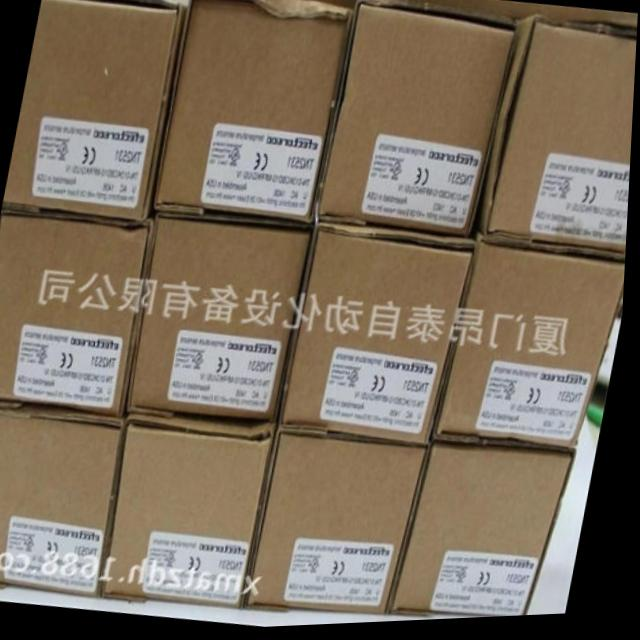box: (314, 2, 513, 238), (157, 0, 357, 225), (284, 225, 480, 453), (437, 238, 628, 451), (125, 211, 314, 423), (6, 0, 188, 219), (484, 20, 638, 261), (253, 418, 432, 614), (108, 411, 281, 606), (396, 438, 579, 621), (0, 204, 158, 412), (0, 402, 125, 595), (241, 0, 638, 34)
